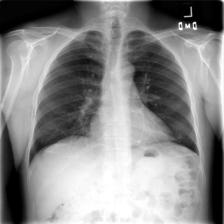normal: (20, 25, 204, 170)
